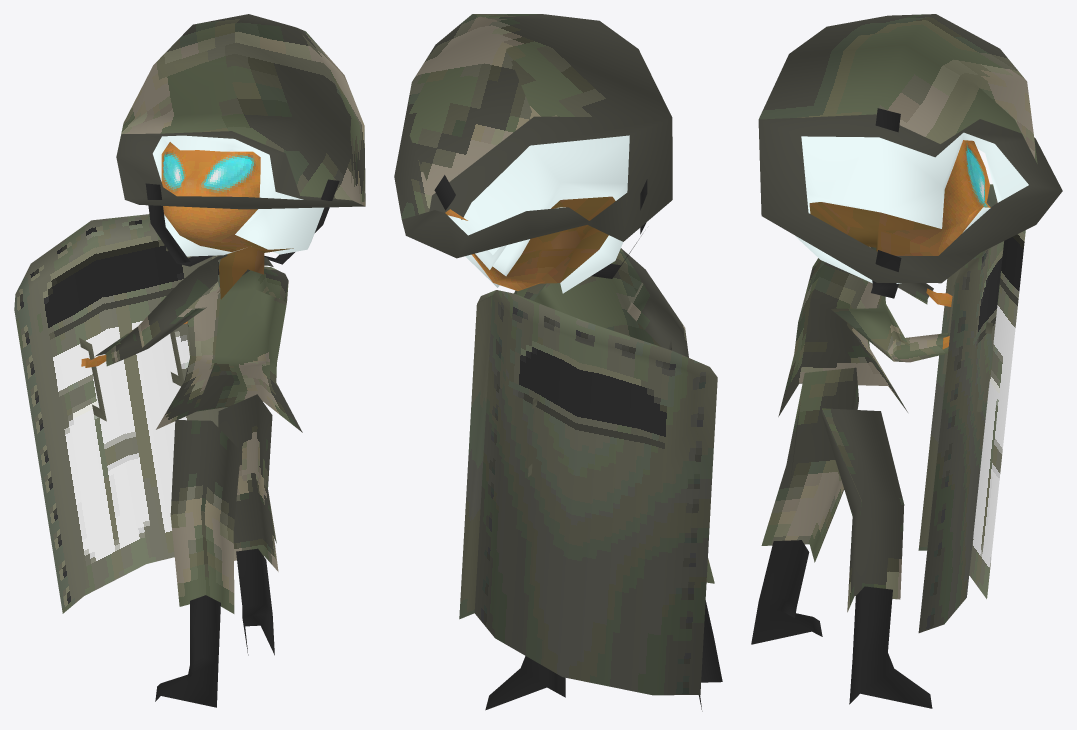
File: ps2_save-icons_beatmaniaiidx15djtroopers.glb
3 views of the same model, side by side, from view 1: azimuth 30°, elevation 25°; view 2: azimuth 150°, elevation 25°; view 3: azimuth 270°, elevation 25° (orthographic). The views are drawn at different scales.
Visible parts, largest first — view 1: 2DXICON.ico; view 2: 2DXICON.ico; view 3: 2DXICON.ico.
Boxes of the visible parts, <box> form: 2DXICON.ico: <box>14,14,365,707</box>; 2DXICON.ico: <box>394,14,722,711</box>; 2DXICON.ico: <box>751,14,1062,708</box>.
Size of the model in its own units: 2.34 by 4.5 by 1.86.
1 material, 1 textured.
